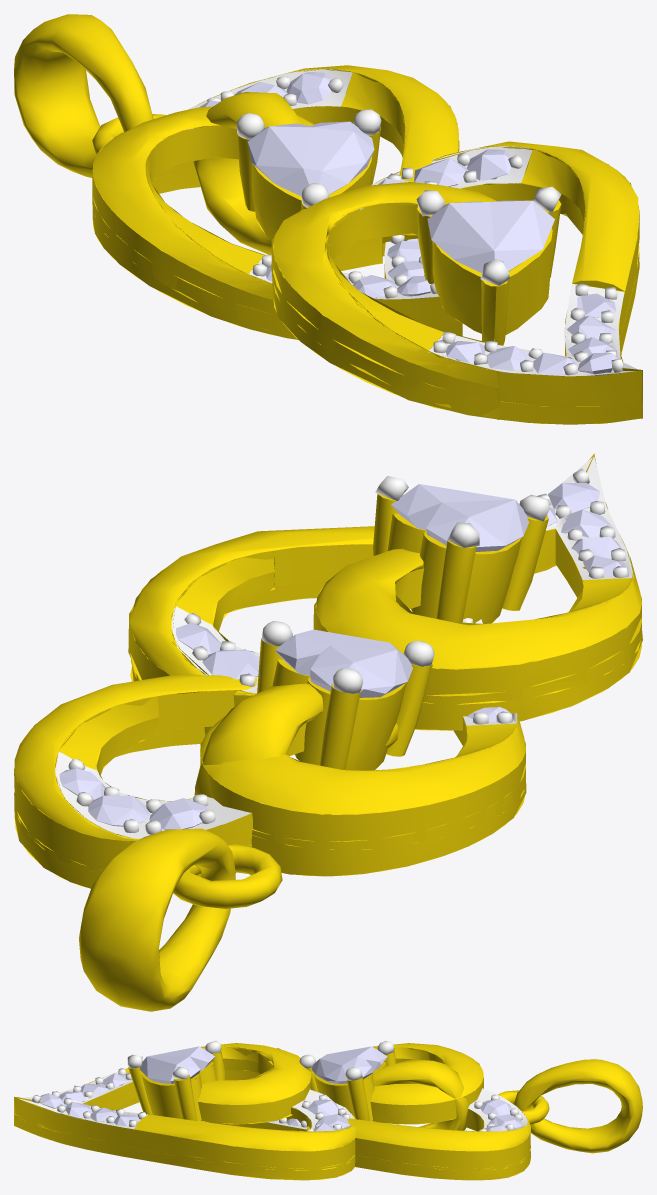
File: DPN-D000675689.glb
3 views of the same model, one above another, from view 1: azimuth 30°, elevation 25°; view 2: azimuth 150°, elevation 25°; view 3: azimuth 270°, elevation 25° (orthographic). The views are drawn at different scales.
Parts seen in each view (by area): view 1: lowPolyMesh, highPolyMesh; view 2: highPolyMesh, lowPolyMesh; view 3: lowPolyMesh, highPolyMesh.
Boxes of the visible parts, box(x1,y1,x2,y2) form: lowPolyMesh: box(193, 92, 642, 424); highPolyMesh: box(14, 14, 462, 339); highPolyMesh: box(14, 618, 526, 1011); lowPolyMesh: box(128, 453, 642, 826); lowPolyMesh: box(14, 1040, 469, 1180); highPolyMesh: box(218, 1041, 642, 1180).
Bounding box in the file's own units: 0.013 × 0.00615 × 0.0294.
